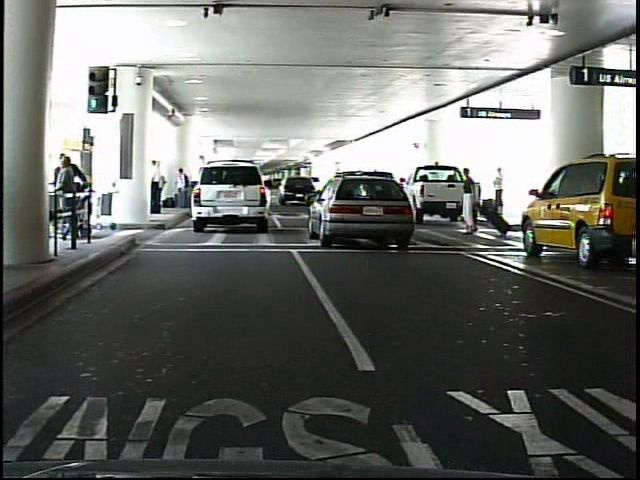person: (462, 165, 483, 236), (495, 165, 510, 218), (155, 157, 167, 217), (179, 167, 193, 210)
